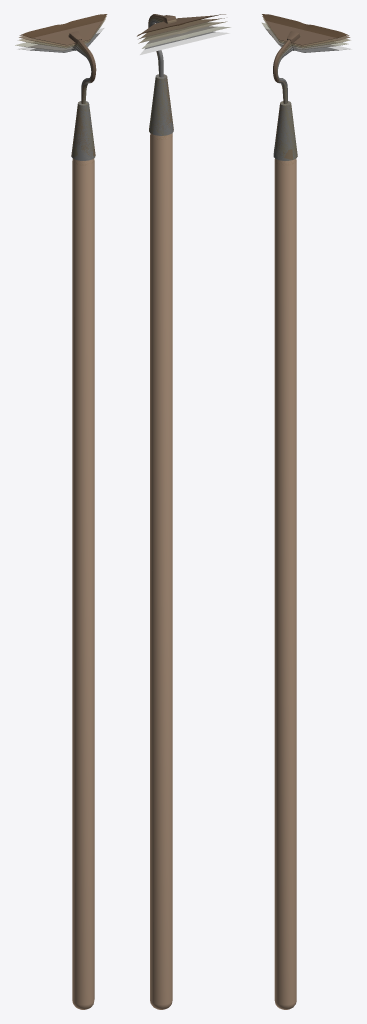
The model's file is Hoes.fbx.
3 renders of one model, left to right at view 1: azimuth 30°, elevation 25°; view 2: azimuth 210°, elevation 25°; view 3: azimuth 330°, elevation 25°, orthographic. The views are drawn at different scales.
Parts seen in each view (by area): view 1: SM_hoe_level1, SM_hoe_level5, SM_hoe_level4, SM_hoe_level3, SM_hoe_level2; view 2: SM_hoe_level1, SM_hoe_level3, SM_hoe_level2, SM_hoe_level4, SM_hoe_level5; view 3: SM_hoe_level1, SM_hoe_level5, SM_hoe_level3, SM_hoe_level4, SM_hoe_level2.
Part boxes in pixels (x1,y1,x2,y2): SM_hoe_level1: [17, 28, 104, 1009]; SM_hoe_level5: [19, 14, 107, 148]; SM_hoe_level4: [19, 16, 106, 156]; SM_hoe_level3: [18, 18, 105, 157]; SM_hoe_level2: [15, 42, 93, 165]; SM_hoe_level1: [140, 21, 229, 1009]; SM_hoe_level3: [138, 18, 227, 135]; SM_hoe_level2: [142, 19, 230, 139]; SM_hoe_level4: [138, 17, 224, 129]; SM_hoe_level5: [137, 14, 225, 128]; SM_hoe_level1: [264, 27, 351, 1009]; SM_hoe_level5: [262, 14, 349, 153]; SM_hoe_level3: [263, 18, 350, 160]; SM_hoe_level4: [262, 16, 350, 159]; SM_hoe_level2: [261, 22, 348, 165].
Bounding box in the file's own units: 18.87 × 12.41 × 192.
